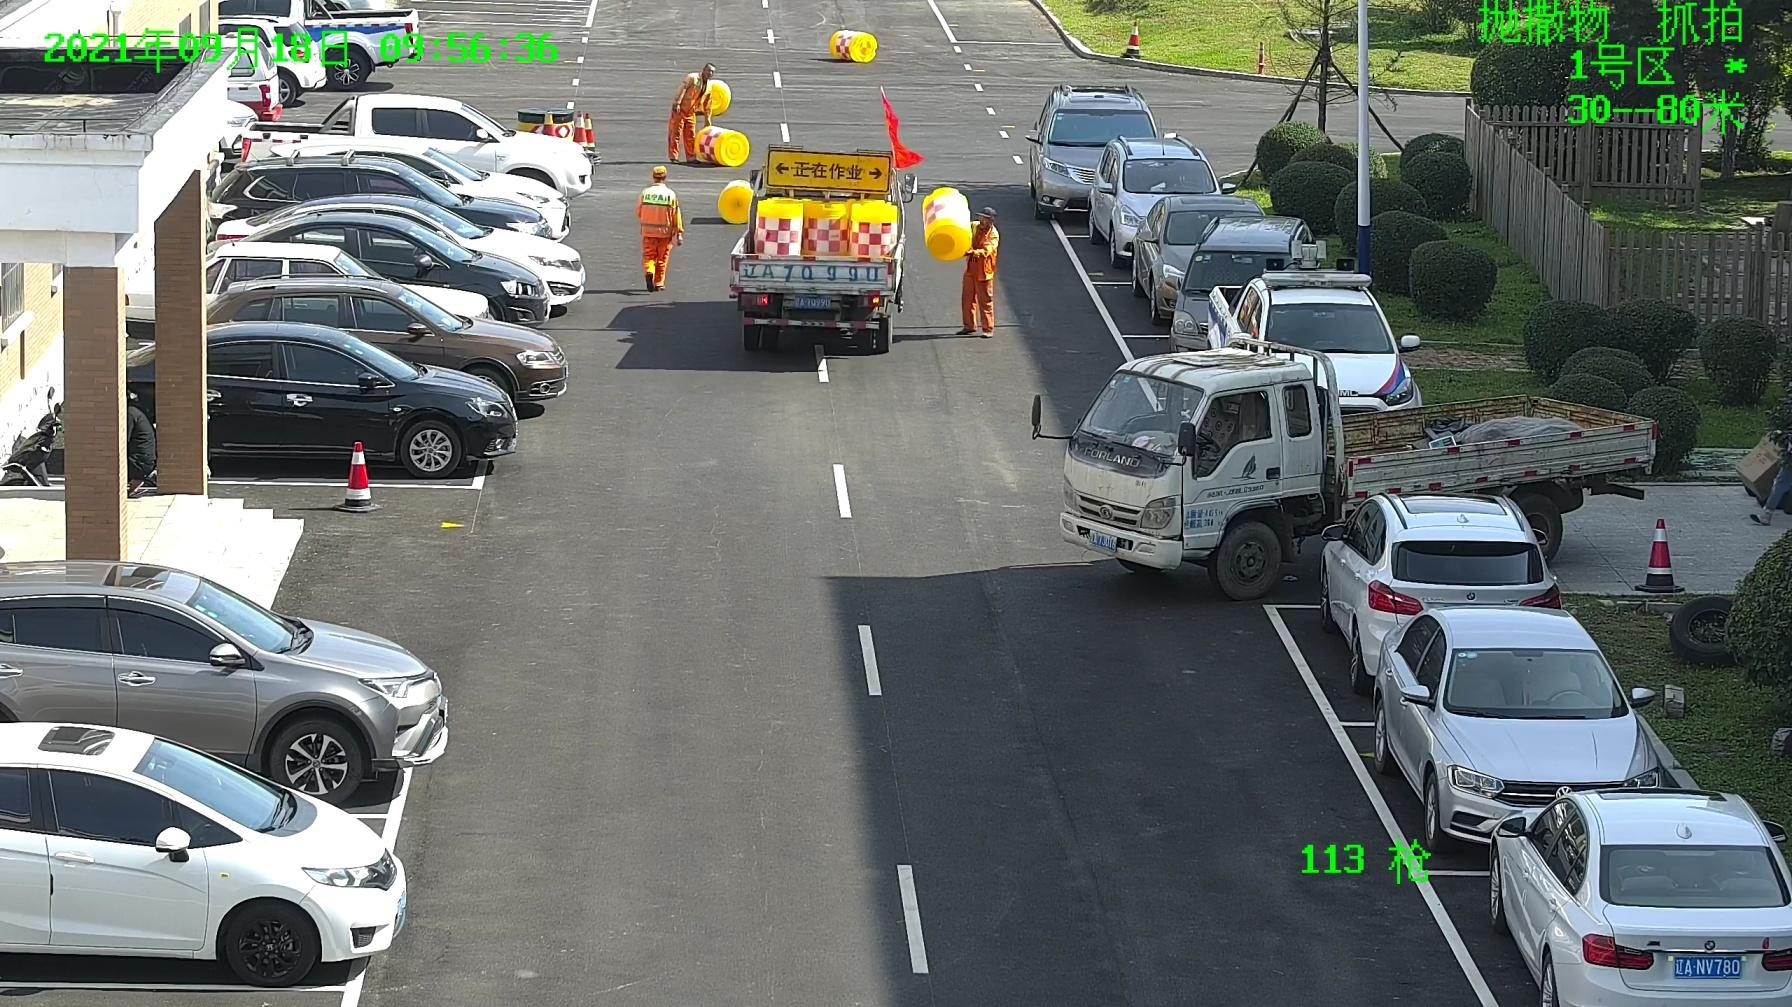cone_barrel: (919, 187, 969, 259), (800, 198, 847, 259), (847, 198, 892, 260), (756, 199, 799, 259), (694, 122, 747, 166), (714, 179, 754, 223), (830, 28, 874, 62)
